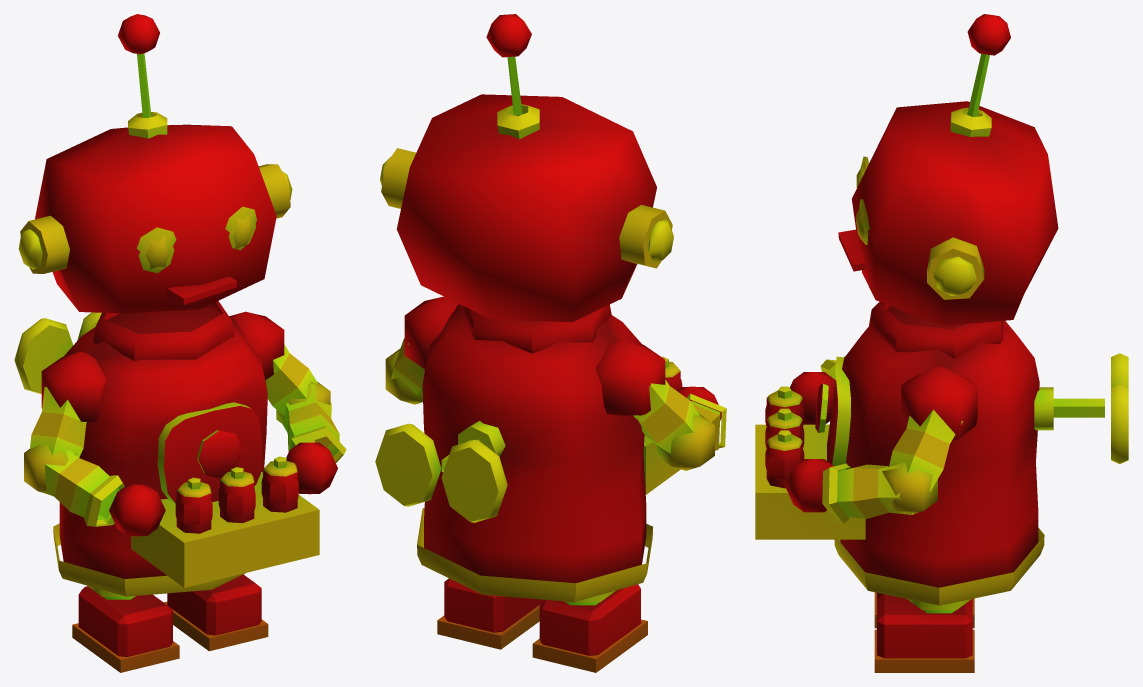
The model's file is RobotWorker_carry_food_LOD1.glb.
3 views of the same model, side by side, from view 1: azimuth 30°, elevation 25°; view 2: azimuth 150°, elevation 25°; view 3: azimuth 270°, elevation 25° (orthographic). The views are drawn at different scales.
Visible parts, largest first — view 1: RobotWorker_carry_food_LOD1; view 2: RobotWorker_carry_food_LOD1; view 3: RobotWorker_carry_food_LOD1.
Part boxes in pixels (x1=…): RobotWorker_carry_food_LOD1: x1=14, y1=14, x2=346, y2=672; RobotWorker_carry_food_LOD1: x1=375, y1=14, x2=726, y2=672; RobotWorker_carry_food_LOD1: x1=755, y1=14, x2=1128, y2=672.
Size of the model in its own units: 0.4805 by 0.93 by 0.507.
